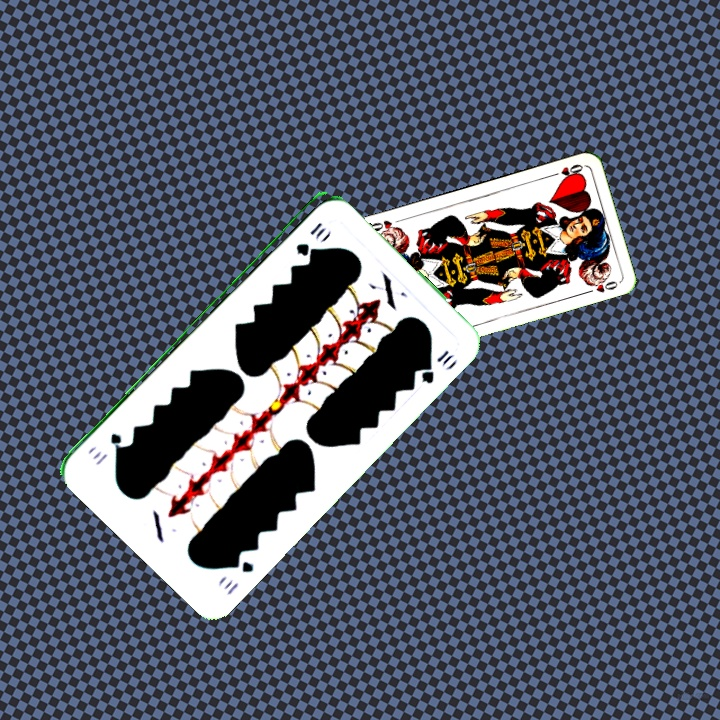G10: (220, 552, 257, 598), (291, 218, 329, 257)
HO: (546, 160, 586, 182)
